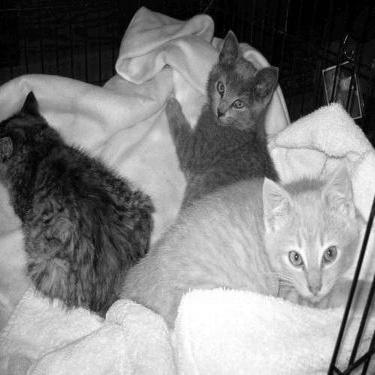cat: (145, 143, 361, 314), (1, 82, 144, 308), (133, 32, 281, 183)
